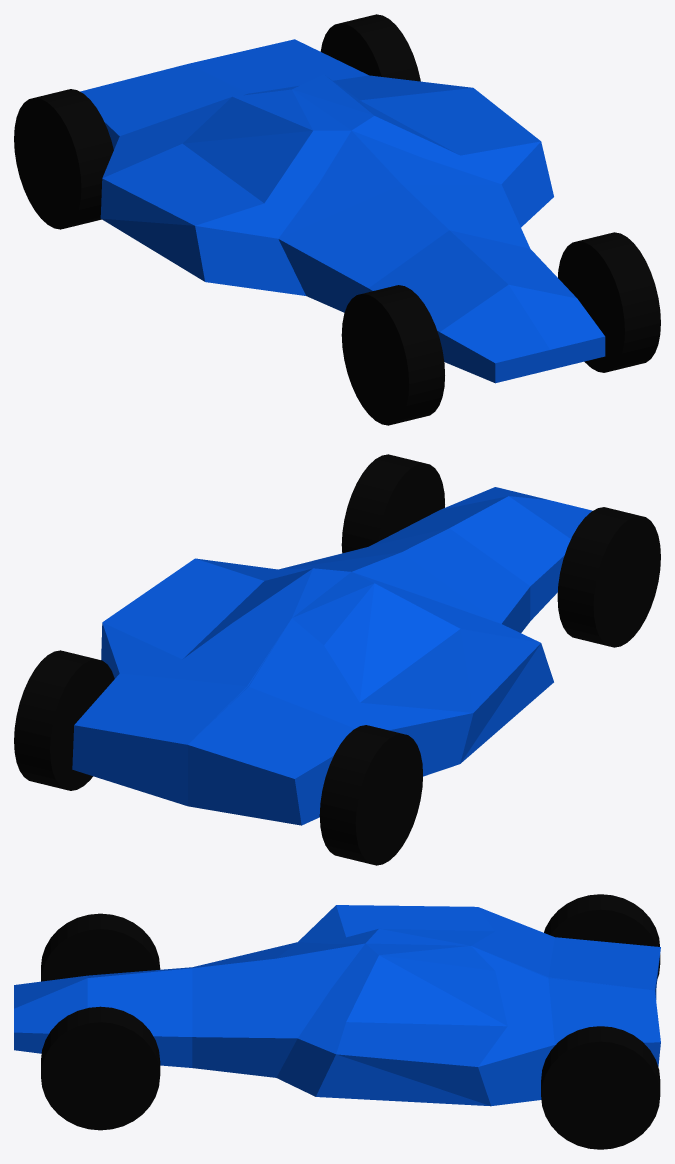
The model's file is car.fbx.
The picture shows the model from 3 angles, top to bottom: view 1: azimuth 30°, elevation 25°; view 2: azimuth 150°, elevation 25°; view 3: azimuth 270°, elevation 25°; orthographic projection. The views are drawn at different scales.
Visible parts, largest first — view 1: Cube, Wheel.003, Wheel, Wheel.002, Wheel.001; view 2: Cube, Wheel.003, Wheel, Wheel.001, Wheel.002; view 3: Cube, Wheel.001, Wheel.002, Wheel.003, Wheel.
Part boxes in pixels (<box>): Cube: <box>80,39,605,383</box>; Wheel.003: <box>341,285,444,425</box>; Wheel: <box>14,89,113,229</box>; Wheel.002: <box>558,232,660,372</box>; Wheel.001: <box>320,14,420,81</box>; Cube: <box>72,487,592,825</box>; Wheel.003: <box>557,507,660,647</box>; Wheel: <box>319,725,422,865</box>; Wheel.001: <box>14,650,114,790</box>; Wheel.002: <box>341,454,444,553</box>; Cube: <box>14,905,660,1106</box>; Wheel.001: <box>541,1026,660,1149</box>; Wheel.002: <box>41,1006,160,1130</box>; Wheel.003: <box>41,913,160,981</box>; Wheel: <box>544,894,660,978</box>.
Size of the model in its own units: 413 by 161 by 705.
